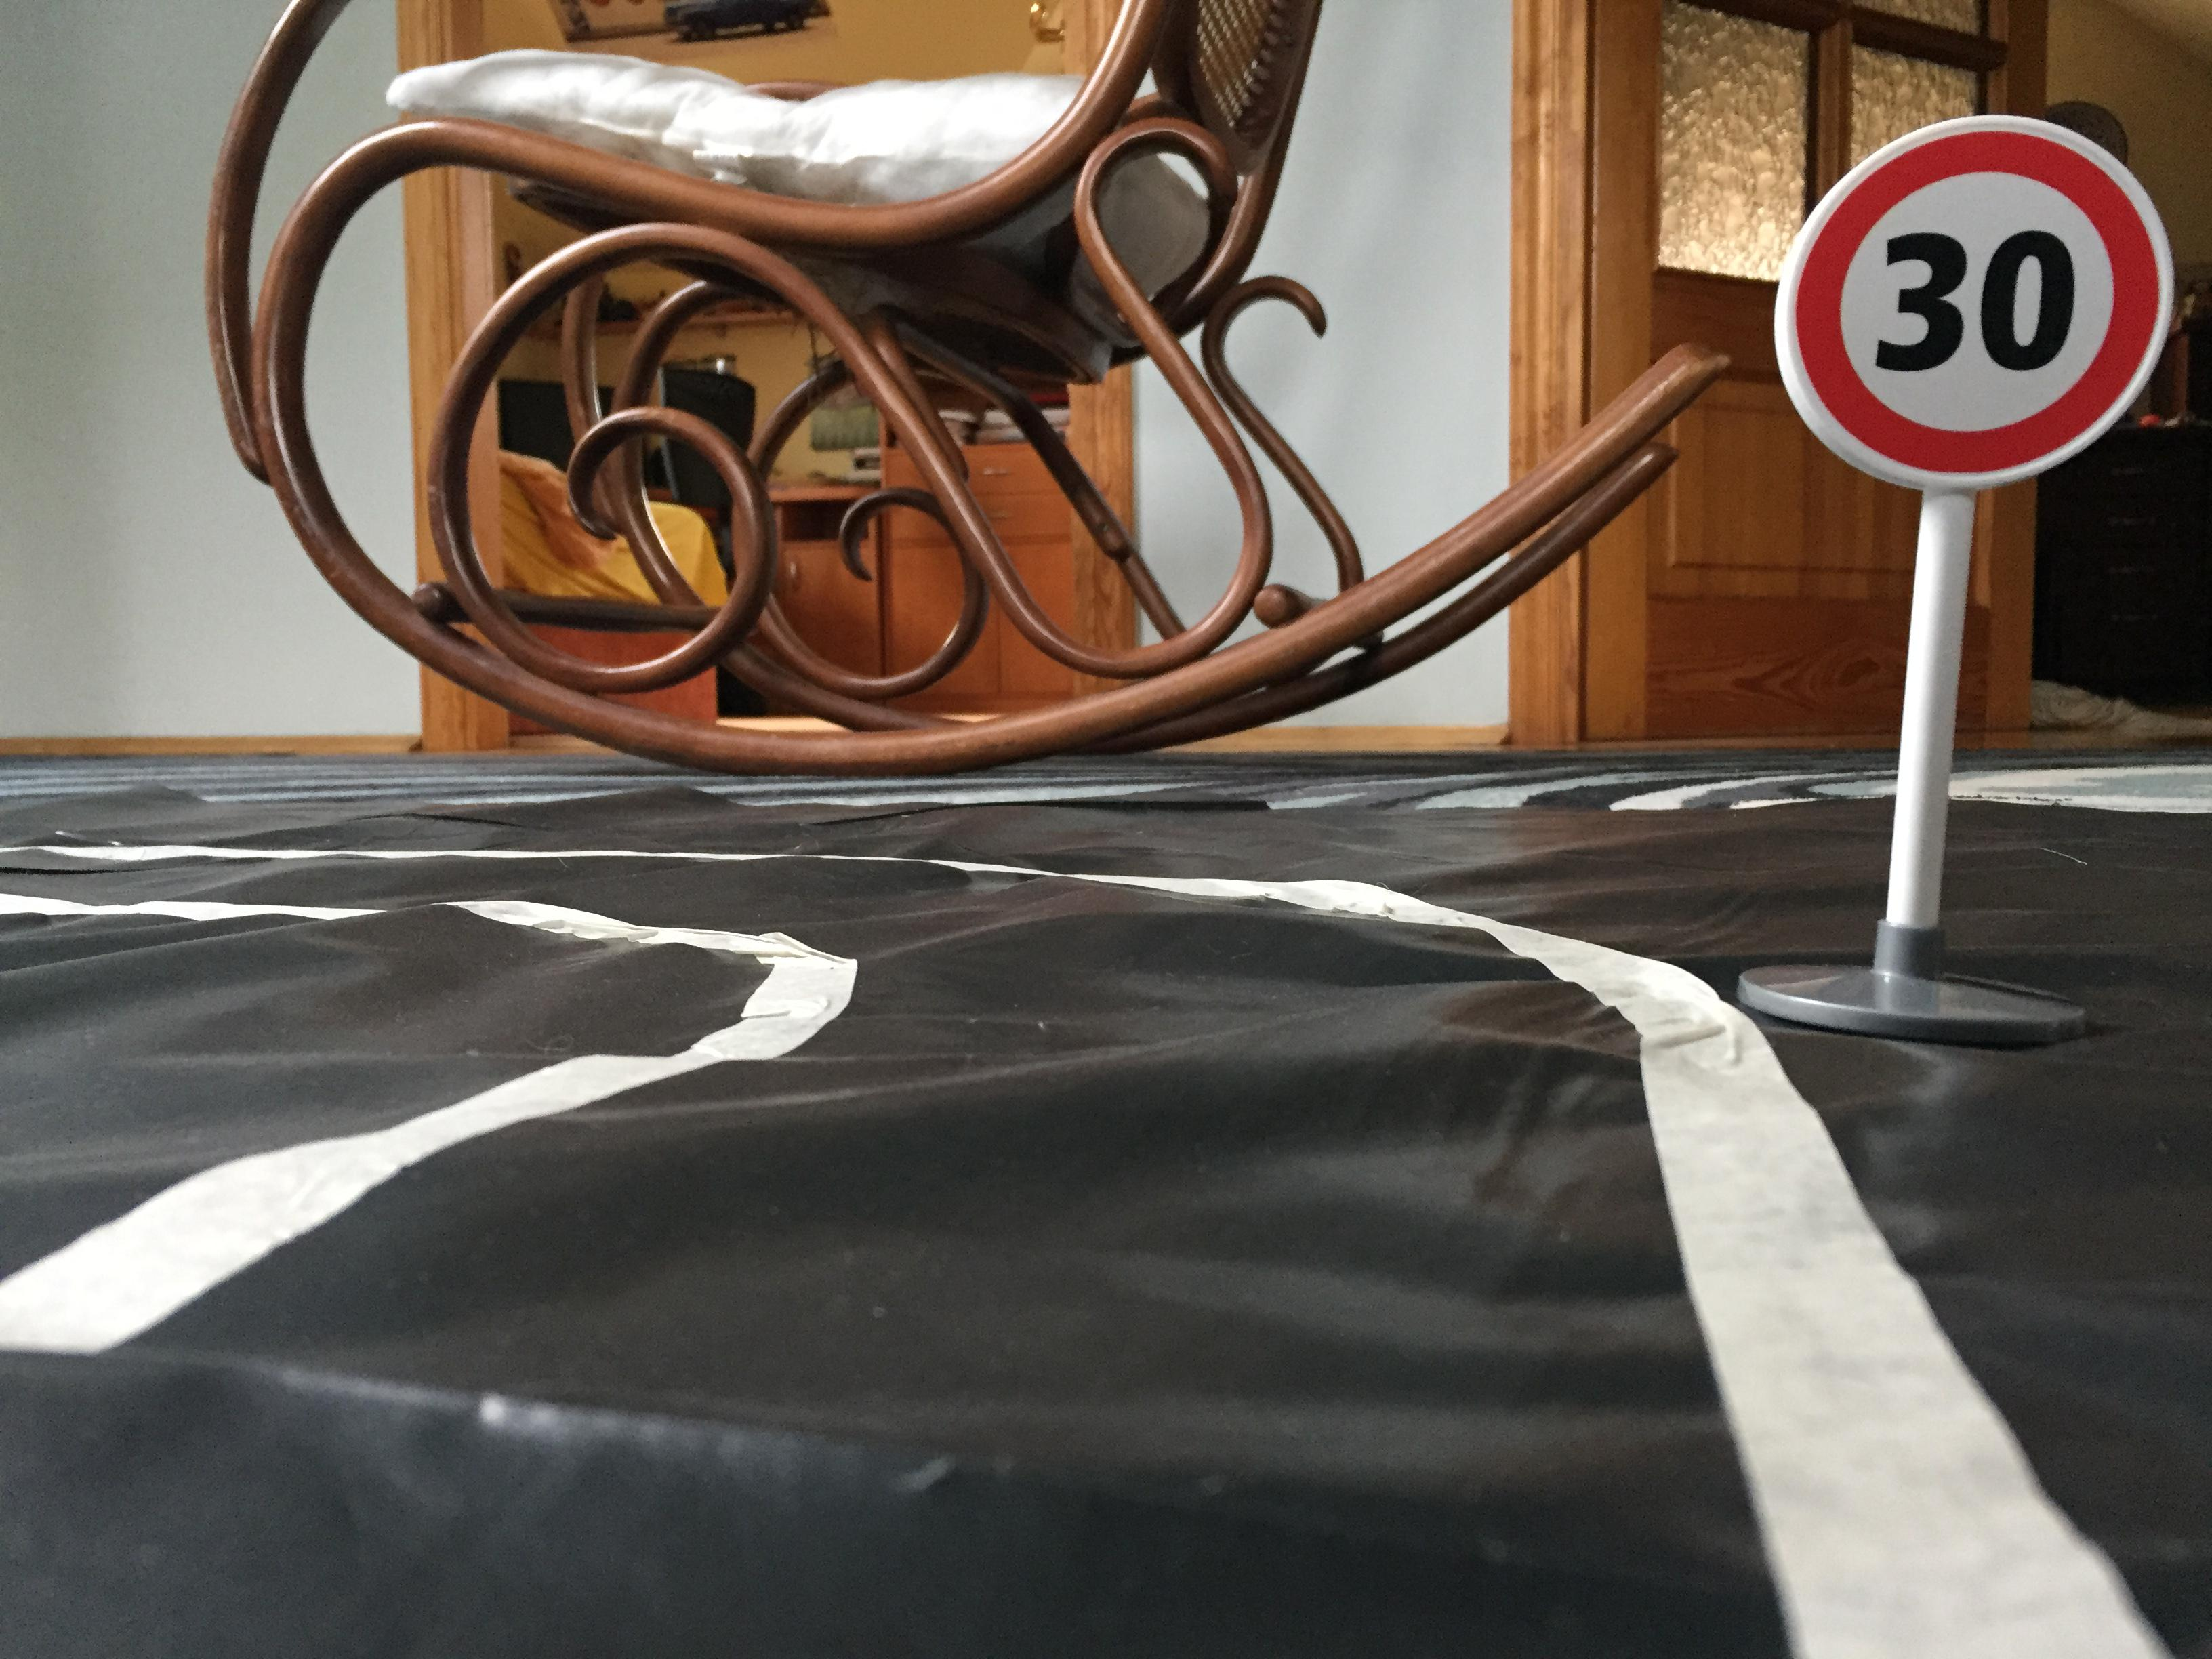speed: (1759, 106, 2181, 505)
